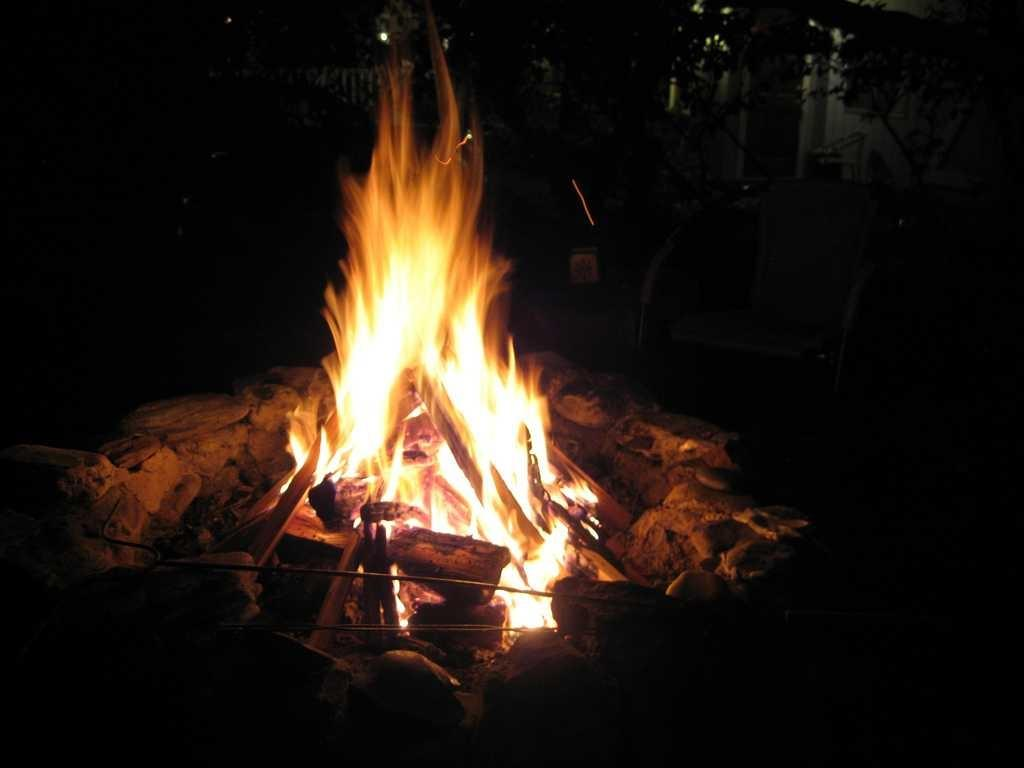fire: (362, 258, 444, 368), (458, 362, 518, 460), (342, 378, 388, 460)
